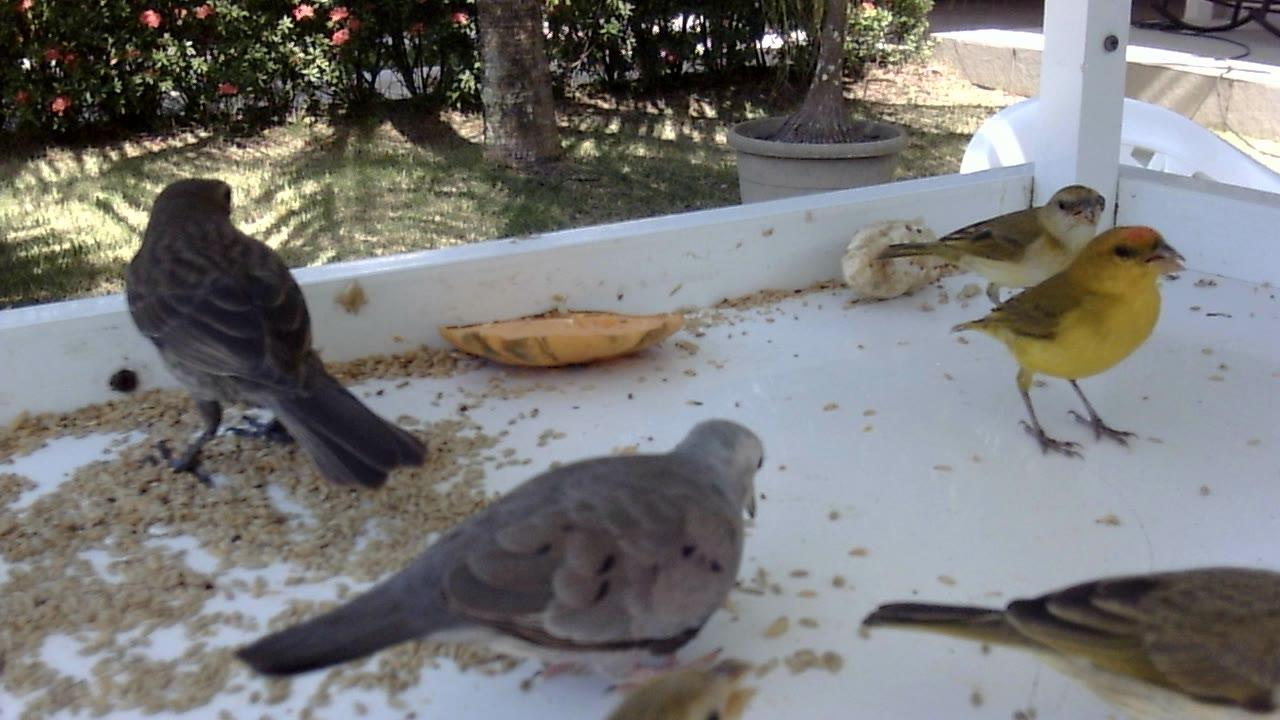canario_do_amazonas: (857, 565, 1280, 720), (949, 225, 1191, 466), (870, 182, 1111, 308)
chupim: (121, 175, 431, 497)
rolinha: (228, 416, 770, 698)
